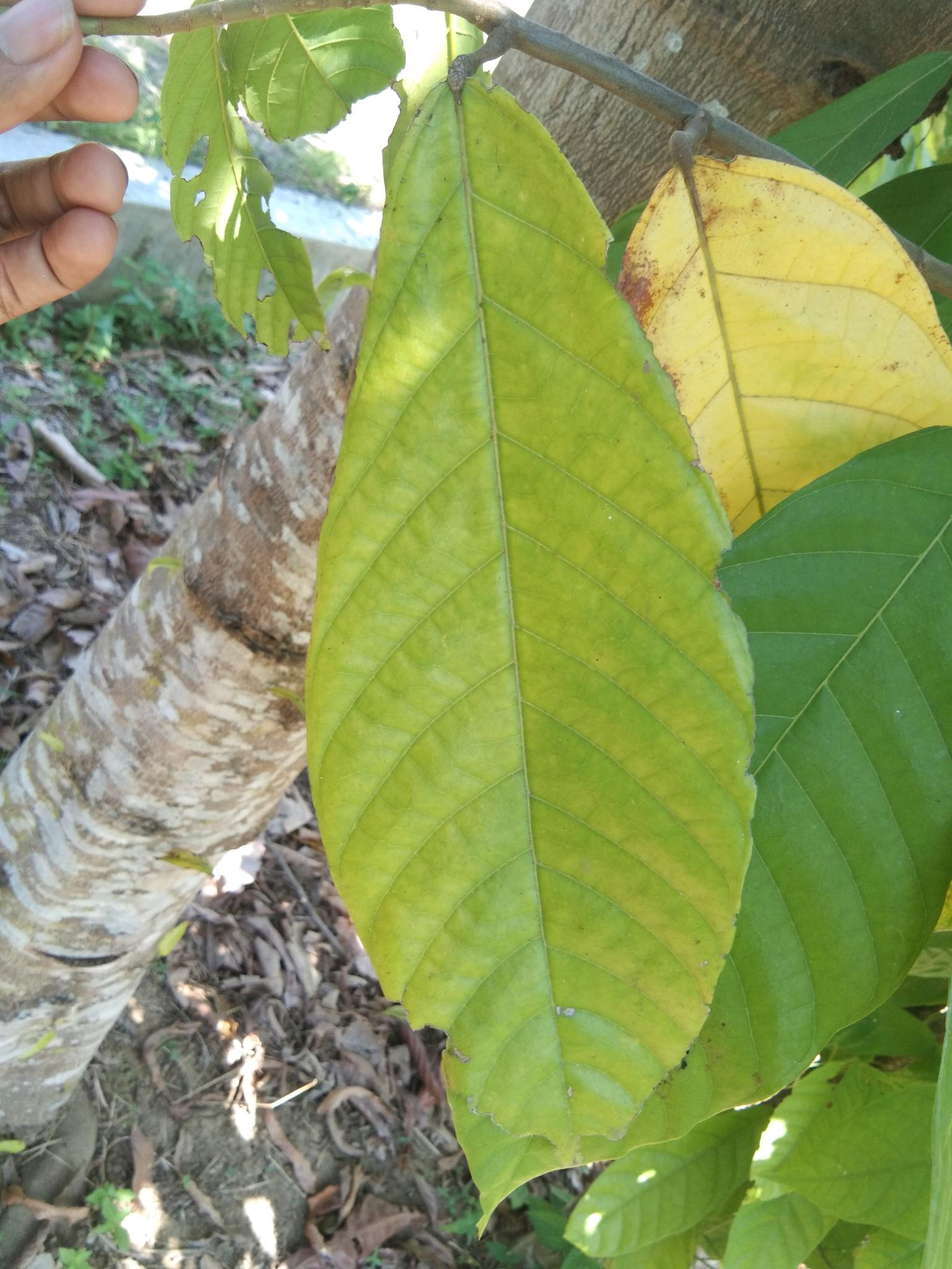Fosforo: (288, 65, 770, 1234), (618, 157, 952, 533)
